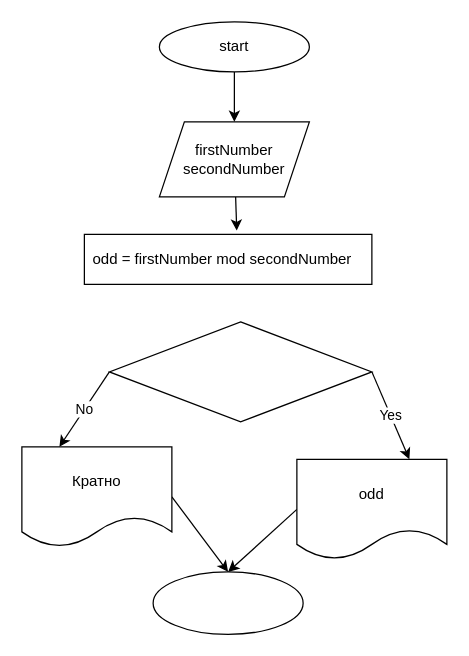
Some shapes in this 469 by 656 pixel diagram are drawn without their labels. Each missing label, with the centre of its shape:
"End" goes at (x=227, y=602).
"odd != 0" goes at (x=240, y=371).
